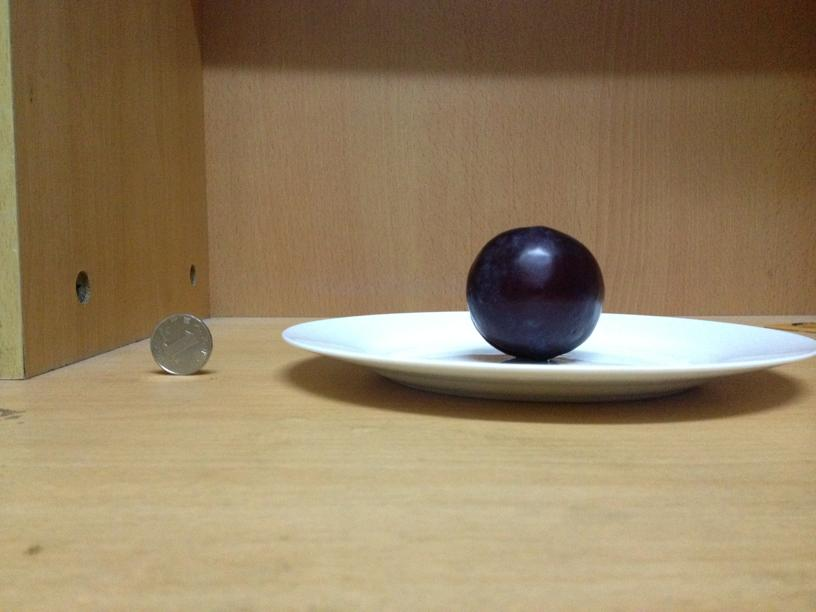coin: (150, 311, 215, 377)
plum: (462, 226, 604, 358)
